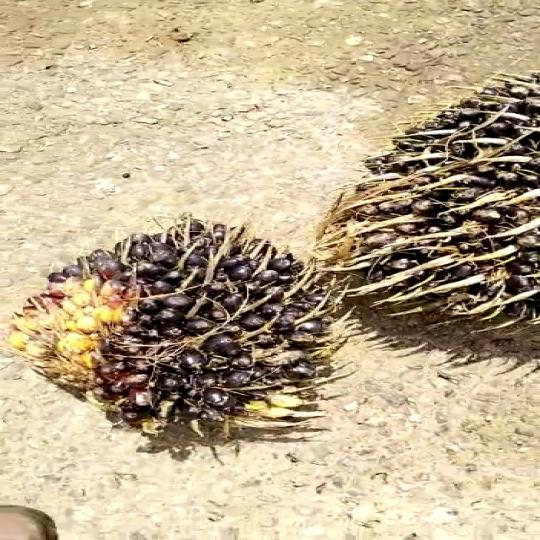mentah: (0, 214, 334, 469), (320, 76, 540, 339)
